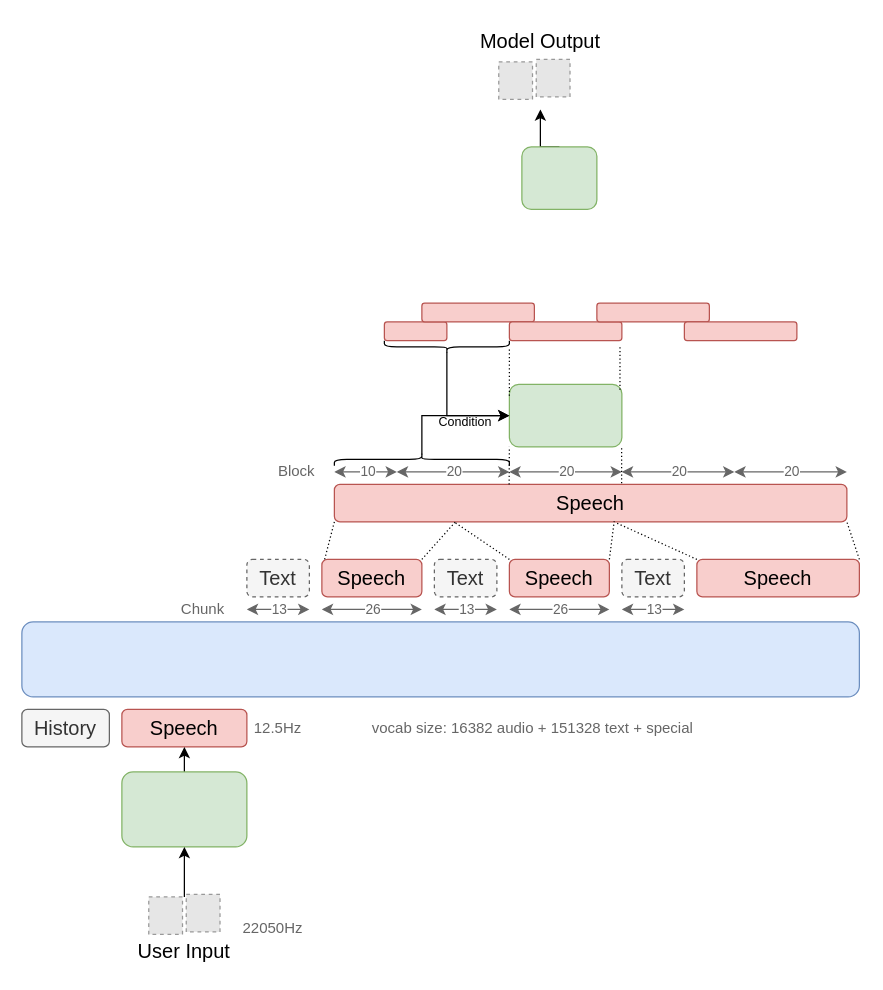
The diagram is 883 pixels wide and 990 high, and some of its shapes have lost their labels. Grey dashed boxes stand in for pictures. Each missing label, with the centre of its shape:
"Flow" belongs at point (565, 415).
"GLM-4-9B" belongs at point (440, 659).
"HiFT" belongs at point (559, 177).
"Speech Tokenizer" belongs at point (184, 809).
